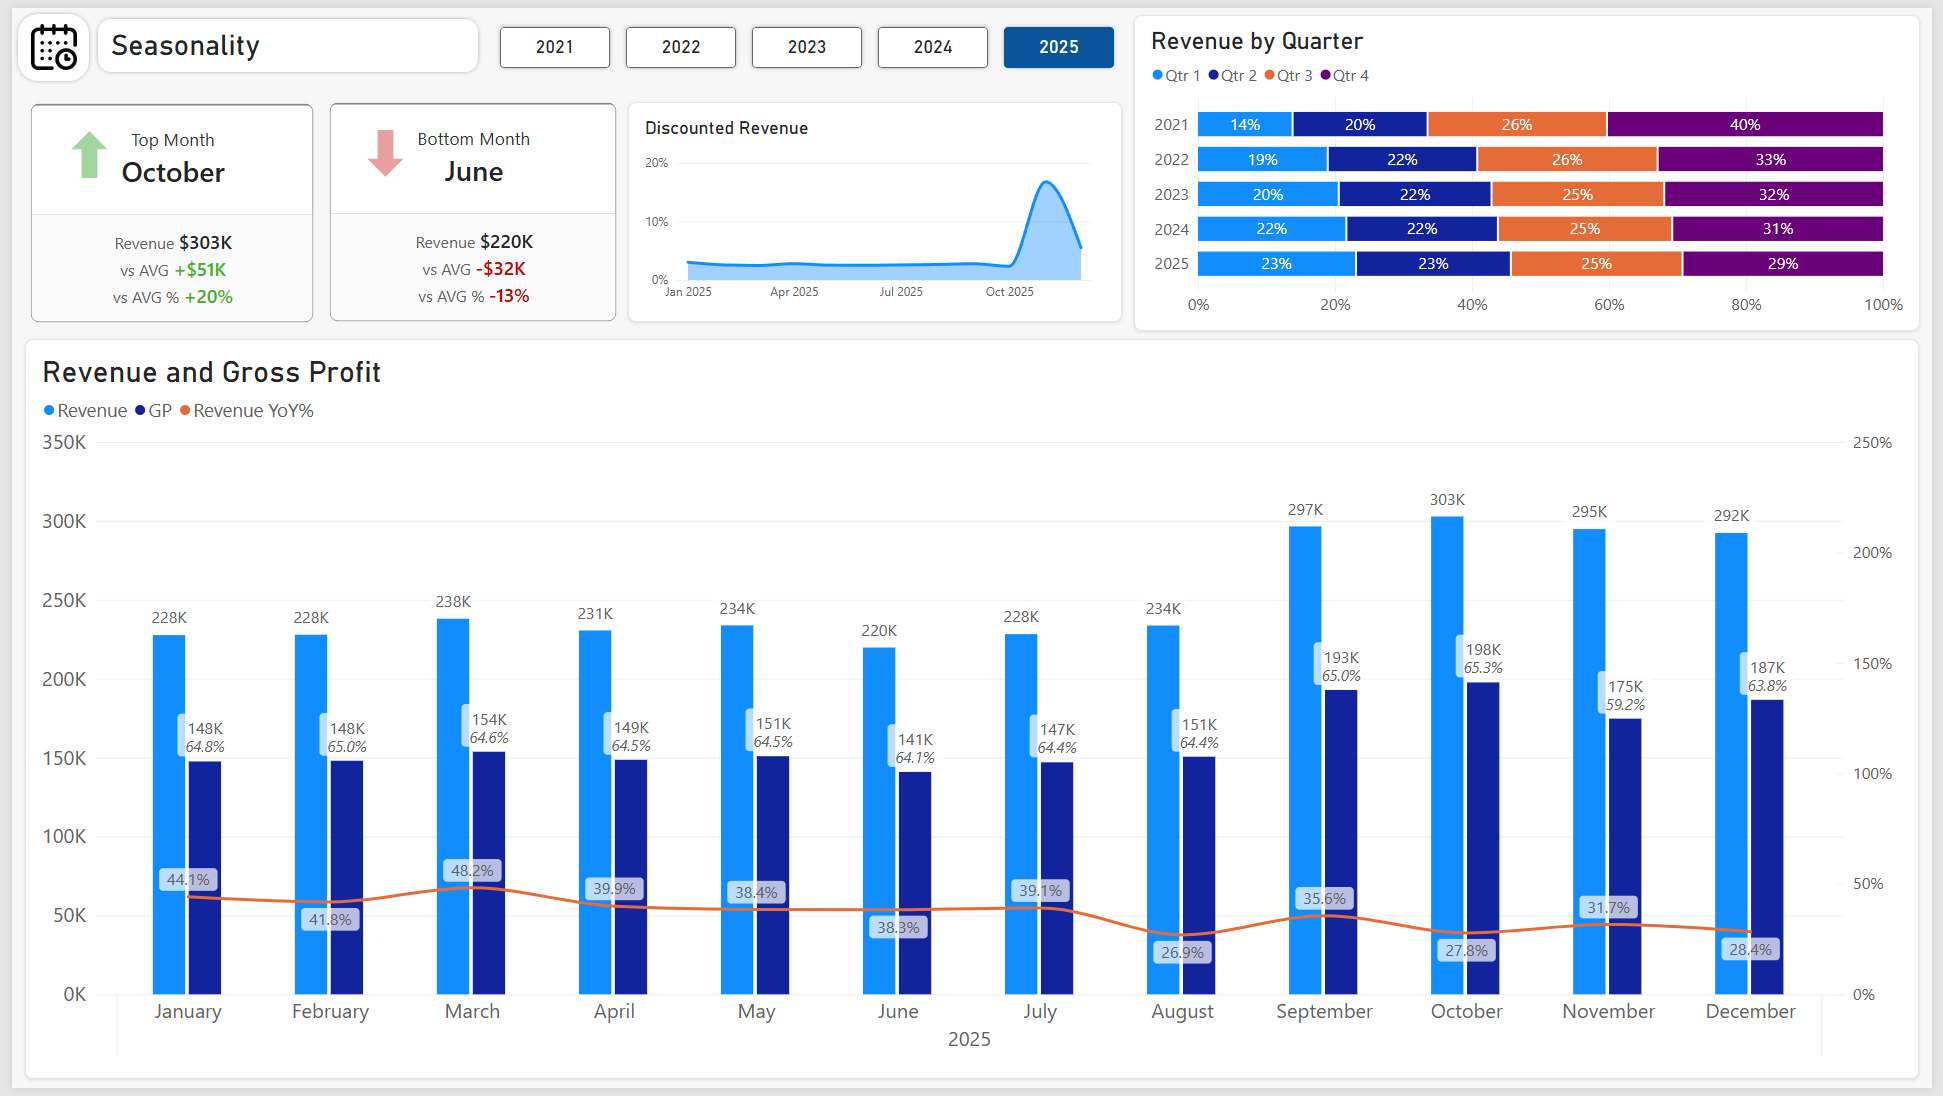

The dashboard page shown, as its layout file describes it:
{"tool":"powerbi","page":{"name":"Seasonality","canvas":[1920,1080],"ordinal":8},"visuals":[{"type":"shape","box":[2,2,79.2,74.6],"z":0},{"type":"shape","box":[82,7,388.3,61.3],"z":1000},{"type":"lineClusteredColumnComboChart","title":"Revenue and Gross Profit","fields":{"Y":["Sum(dtc fact_orders.net_revenue)","Sum(dtc fact_orders.gross_profit)"],"Y2":["dtc fact_orders.Revenue YoY%"],"Category":["dtc dim_date.date.Variation.Date Hierarchy.Year","dtc dim_date.date.Variation.Date Hierarchy.Month"]},"box":[13.3,331.1,1893.3,740],"z":2000},{"type":"hundredPercentStackedBarChart","title":"Revenue by Quarter","fields":{"Category":["dtc dim_date.date.Variation.Date Hierarchy.Year"],"Y":["Sum(dtc fact_orders.net_revenue)"],"Series":["dtc dim_date.date.Variation.Date Hierarchy.Quarter"]},"box":[1122.3,7.3,785.3,316.2],"z":3000},{"type":"textbox","box":[99,20,350,39.6],"z":4000},{"type":"image","box":[15.8,15.8,52.4,46.4],"z":5000},{"type":"cardVisual","fields":{"Data":["dtc fact_orders.Top Month"]},"box":[17.9,94.7,283.8,220],"z":6000},{"type":"cardVisual","fields":{"Data":["dtc fact_orders.Bottom Month"]},"box":[317.1,94,287.5,220],"z":7000},{"type":"advancedSlicerVisual","fields":{"Values":["dtc dim_date.date.Variation.Date Hierarchy.Year"]},"box":[481.2,11.9,629,55],"z":8000},{"type":"shape","box":[59,122.7,37.3,47.1],"z":9000},{"type":"shape","box":[354.6,122,37.3,47.1],"z":10000},{"type":"areaChart","title":"Discounted Revenue","fields":{"Category":["dtc dim_date.date.Variation.Date Hierarchy.Year","dtc dim_date.date.Variation.Date Hierarchy.Month"],"Y":["dtc fact_orders.Discounted Revenue"]},"box":[615.8,94.2,494.4,219.4],"z":11000}]}

Visuals, with their boxes in screenshot pixels (x1, y1, x2, y2), scaled from the page's 1920x1080 canvas onto the 1943x1096 screenshot:
shape: (left=2, top=2, right=82, bottom=78)
shape: (left=83, top=7, right=476, bottom=69)
"Revenue and Gross Profit" lineClusteredColumnComboChart: (left=13, top=336, right=1929, bottom=1087)
"Revenue by Quarter" hundredPercentStackedBarChart: (left=1136, top=7, right=1930, bottom=328)
textbox: (left=100, top=20, right=454, bottom=60)
image: (left=16, top=16, right=69, bottom=63)
cardVisual - dtc fact_orders.Top Month: (left=18, top=96, right=305, bottom=319)
cardVisual - dtc fact_orders.Bottom Month: (left=321, top=95, right=612, bottom=319)
advancedSlicerVisual - dtc dim_date.date.Variation.Date Hierarchy.Year: (left=487, top=12, right=1123, bottom=68)
shape: (left=60, top=125, right=97, bottom=172)
shape: (left=359, top=124, right=397, bottom=172)
"Discounted Revenue" areaChart: (left=623, top=96, right=1123, bottom=318)
